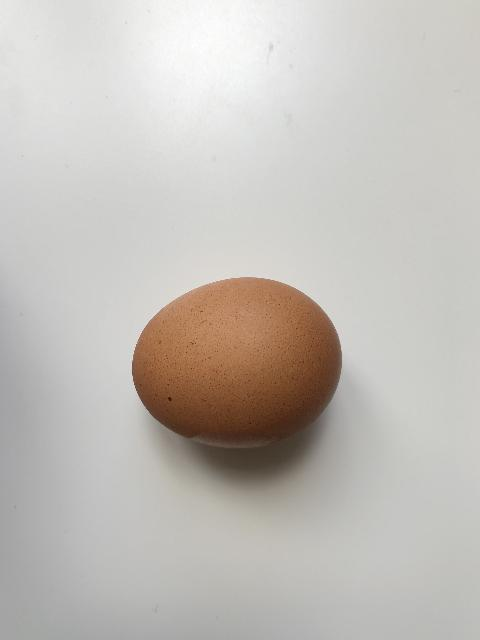Sano: (131, 277, 341, 448)
